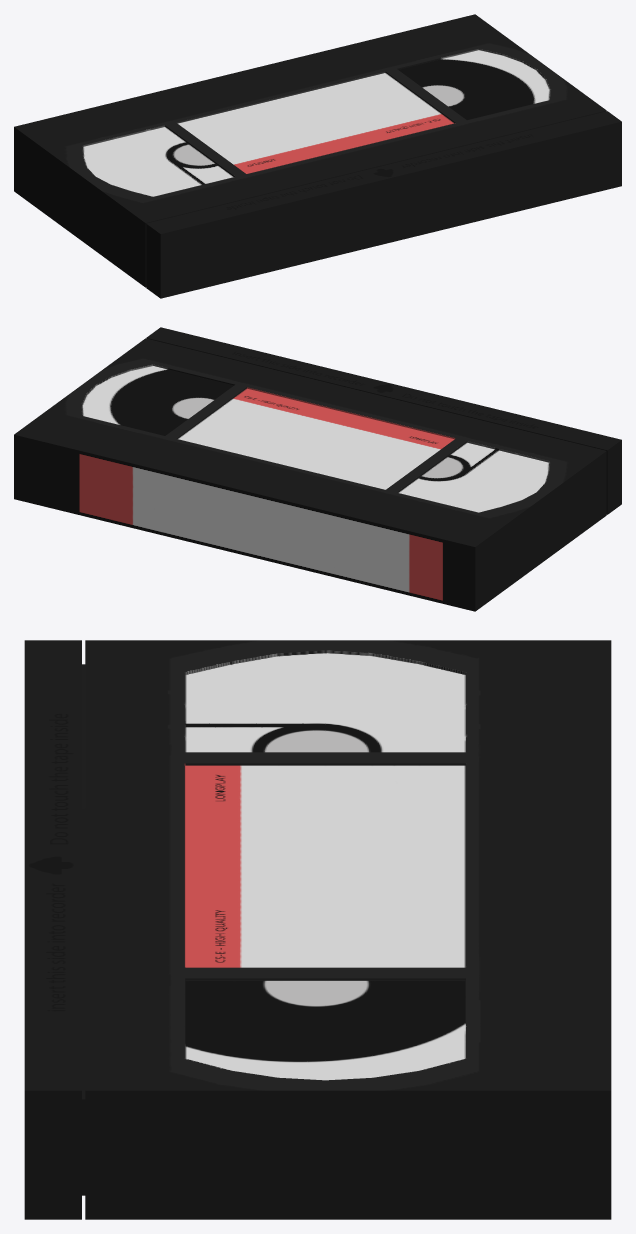
File: VCRCassette.fbx
The picture shows the model from 3 angles, top to bottom: view 1: azimuth 30°, elevation 25°; view 2: azimuth 150°, elevation 25°; view 3: azimuth 270°, elevation 25°; orthographic projection. The views are drawn at different scales.
Visible parts, largest first — view 1: pCube3; view 2: pCube3; view 3: pCube3.
Part boxes in pixels (<box>): pCube3: <box>14,14,621,298</box>; pCube3: <box>14,327,621,611</box>; pCube3: <box>24,640,611,1219</box>.
Size of the model in its own units: 18.7 by 2.5 by 10.3.
